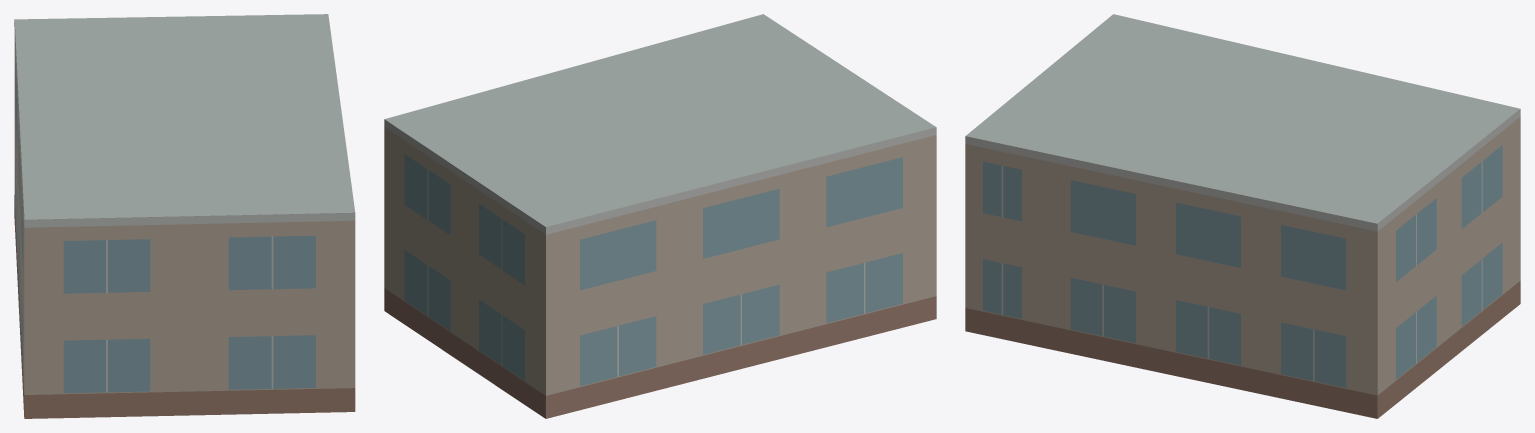
Rendered from survey-upis-32873084.glb.
The picture shows the model from 3 angles, left to right: view 1: azimuth 30°, elevation 25°; view 2: azimuth 150°, elevation 25°; view 3: azimuth 270°, elevation 25°; orthographic projection. The views are drawn at different scales.
Parts seen in each view (by area): view 1: survey-upis-32873084.tmp; view 2: survey-upis-32873084.tmp; view 3: survey-upis-32873084.tmp.
Boxes of the visible parts, x1,y1,x2,y2 form: survey-upis-32873084.tmp: (14, 14, 355, 418); survey-upis-32873084.tmp: (384, 14, 936, 418); survey-upis-32873084.tmp: (965, 14, 1520, 418).
Bounding box in the file's own units: 14.07 × 6.1 × 15.74.
